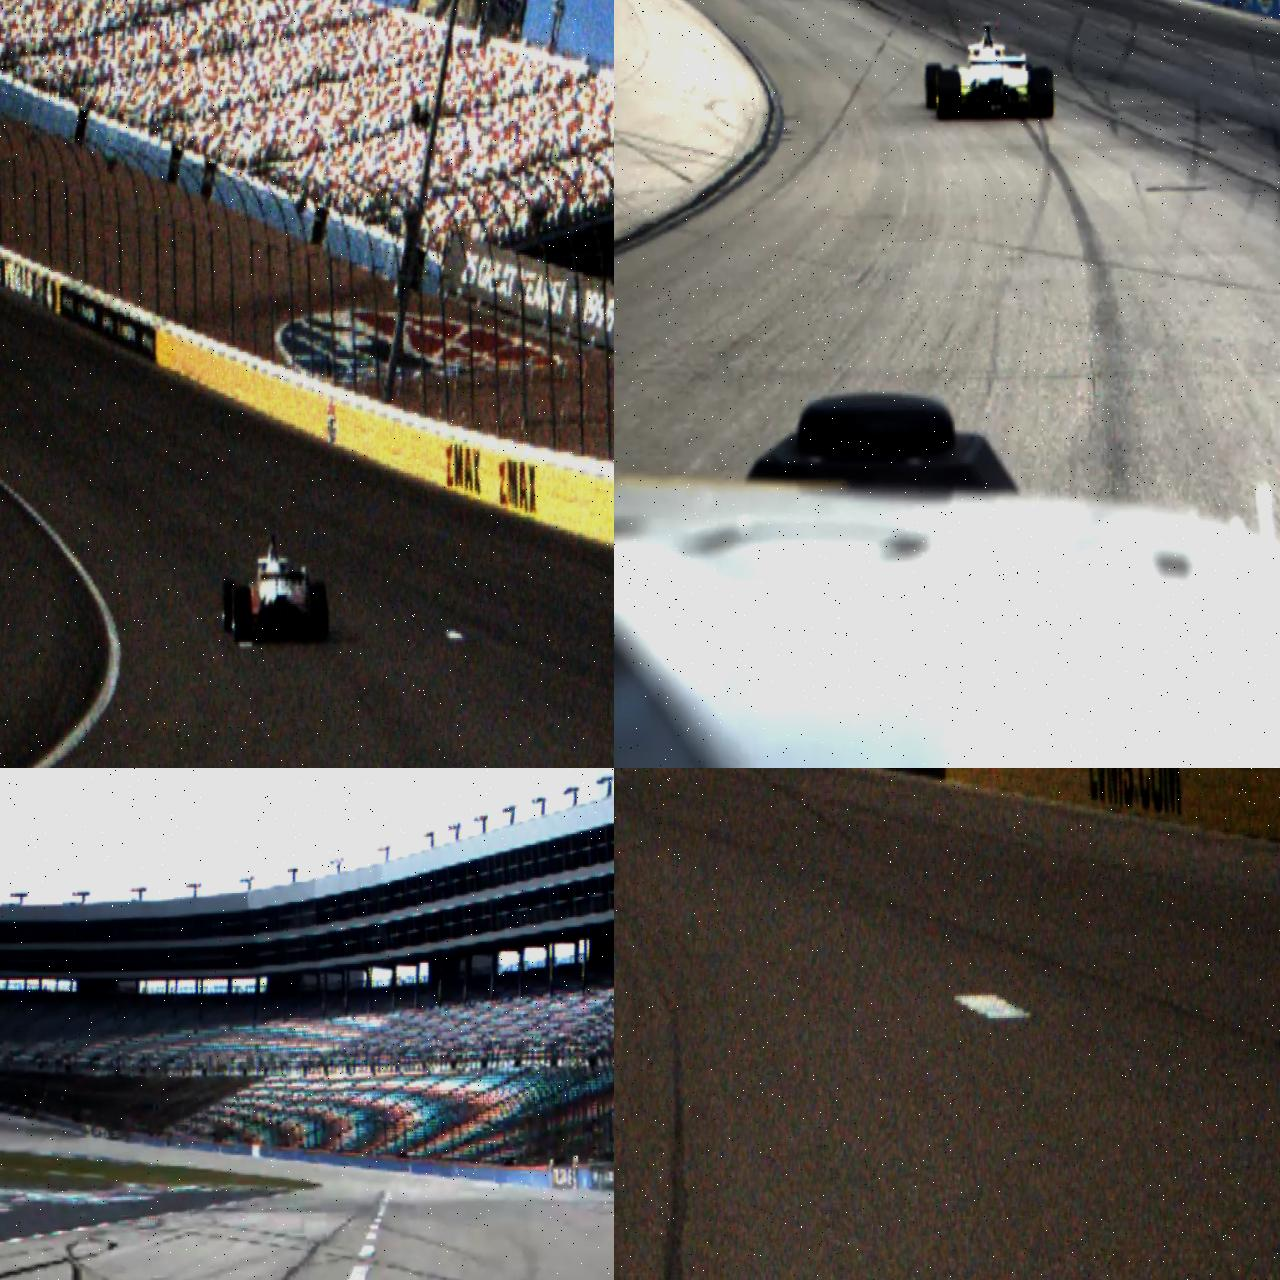AV: (924, 20, 1055, 121), (220, 530, 329, 645)
Wheel: (937, 69, 961, 121), (1029, 69, 1054, 118), (232, 587, 252, 644), (309, 584, 328, 642), (925, 62, 942, 109), (223, 578, 237, 632)
